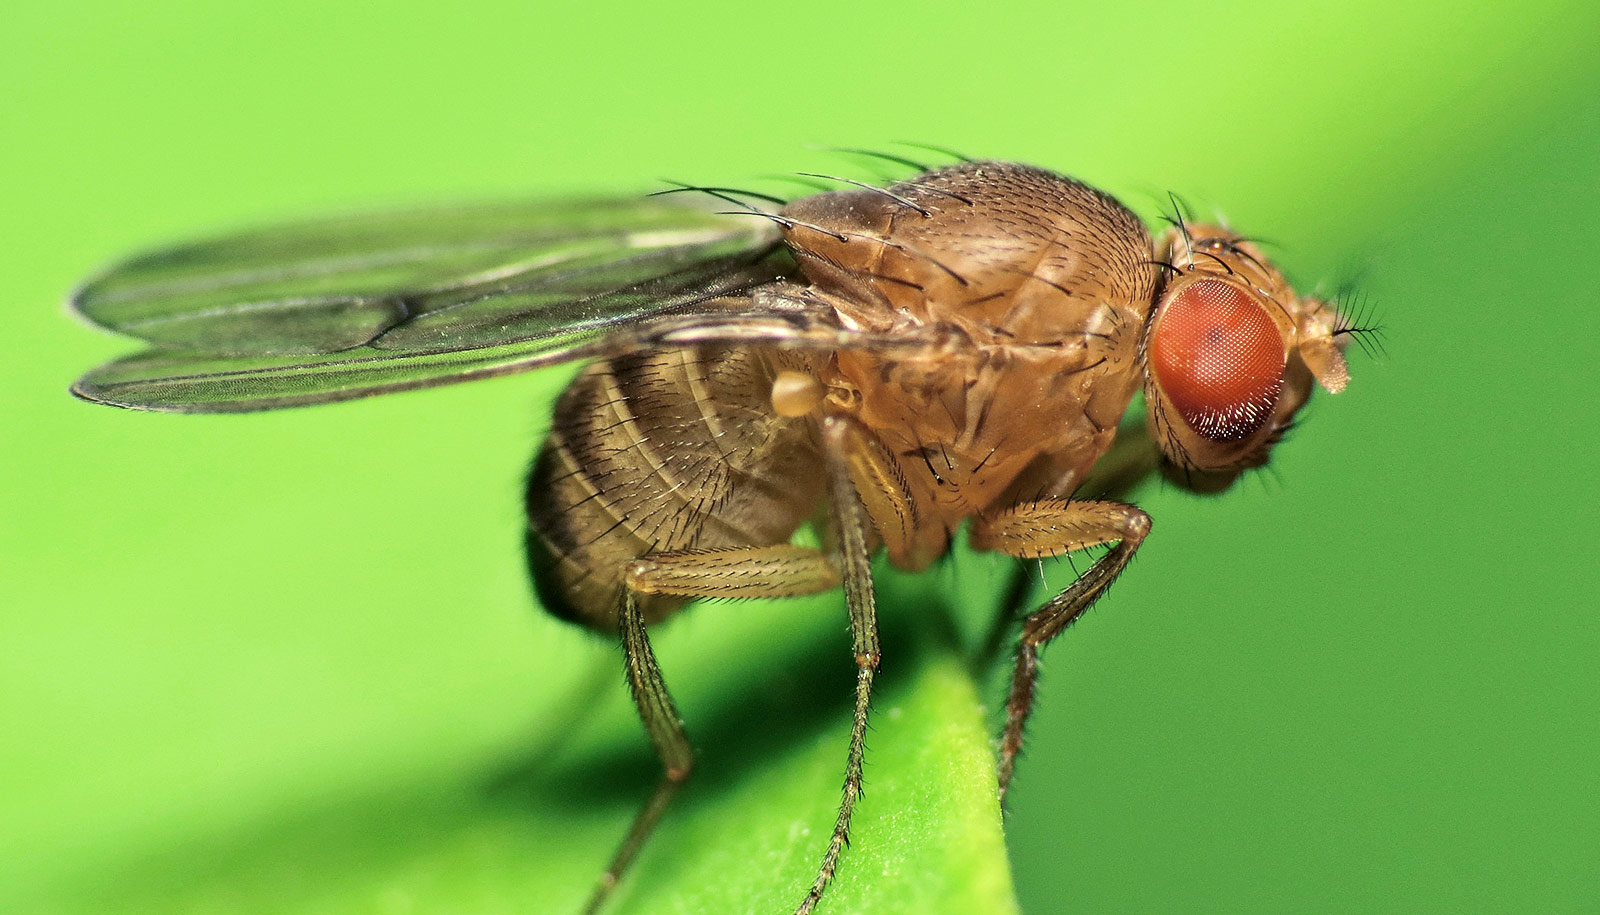Fruit fly: (137, 93, 1392, 857)
